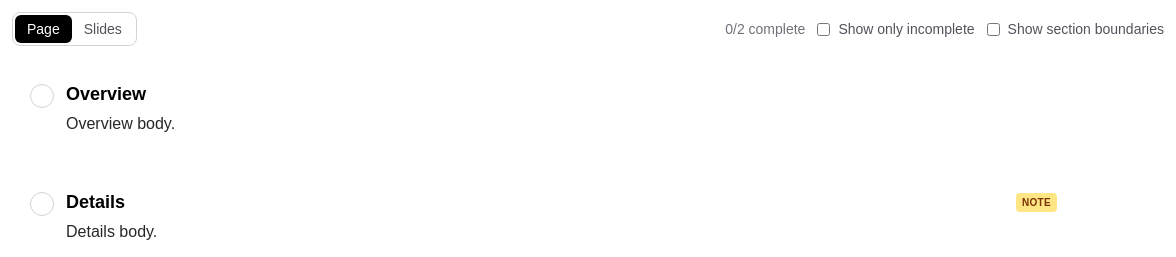
Test: ContentBlocks › completion tracking › 'Show only incomplete' hides a block once it's marked done
Step 1. Click the 1st button named "Mark as done" → click(42, 96), box [30,84,54,108]
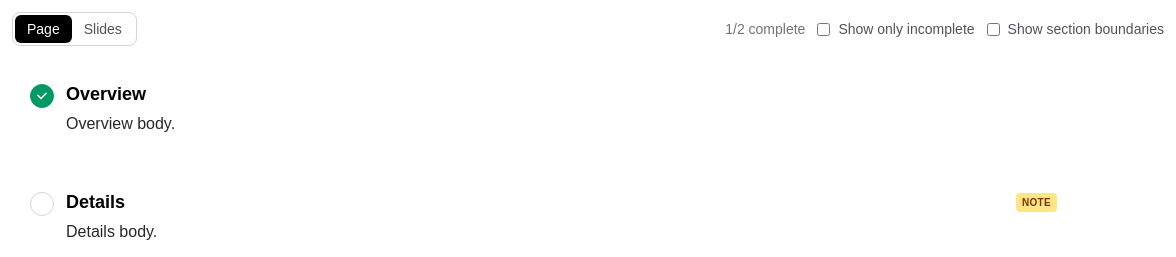
Step 2. Click the checkbox labelled "Show only incomplete" → click(824, 29), box [817,22,830,36]
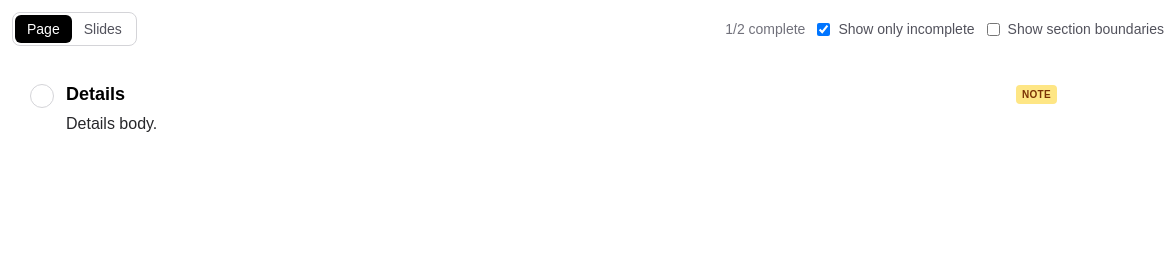
Expected: the heading "Details" is shown, [66,80,125,108]
Expected: the button "Overview" is gone
